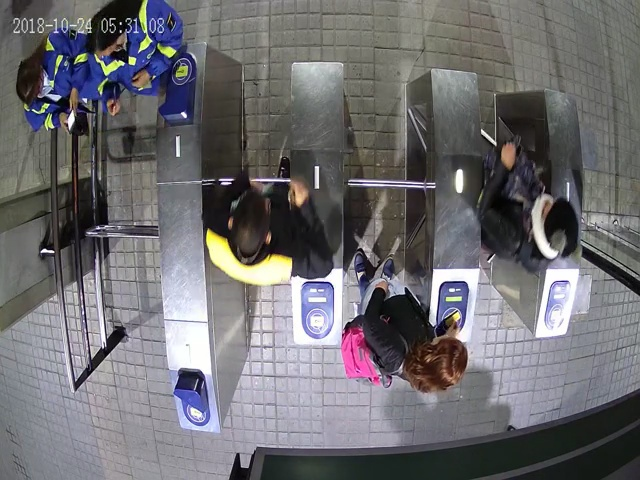Chaleco_azul: (86, 1, 185, 115), (16, 28, 93, 130)
